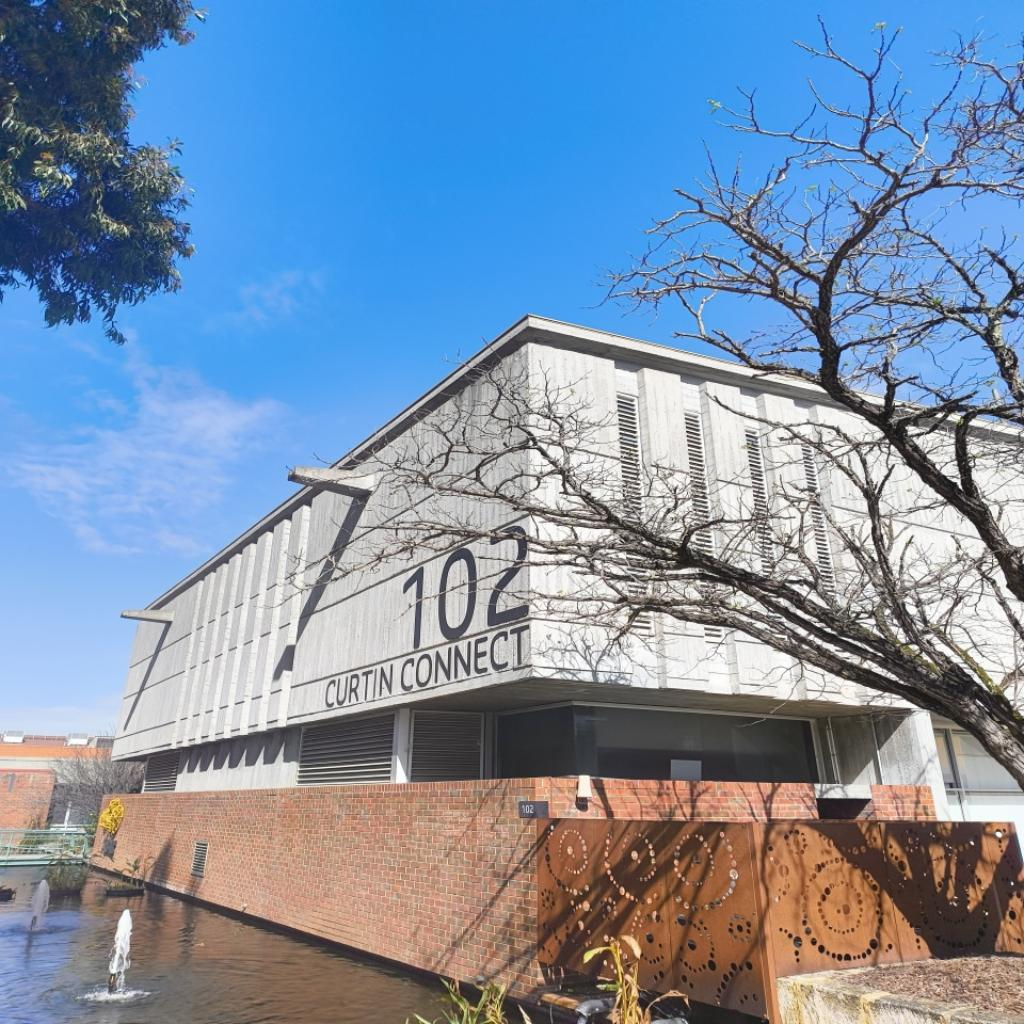BuildingCodes: (392, 510, 536, 660)
